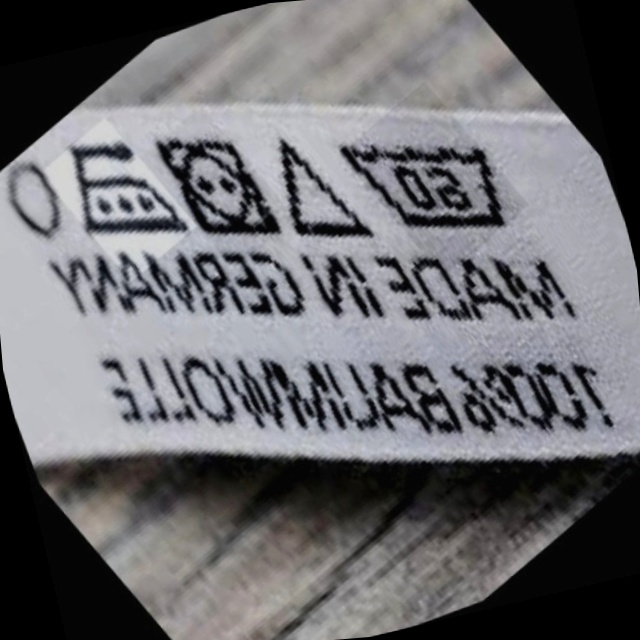60C: (327, 83, 531, 272)
bleach: (254, 112, 372, 268)
iron_high: (46, 108, 191, 272)
tumble_dry_medium: (149, 102, 284, 264)
